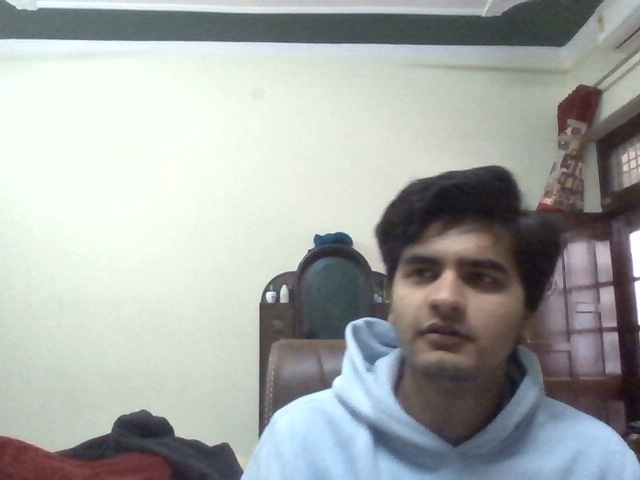surprise: (403, 245, 513, 371)
